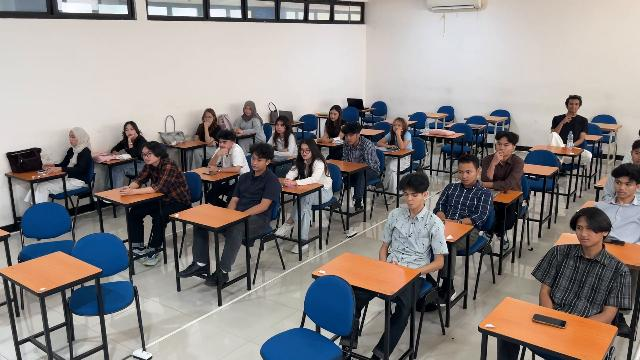fokus: (575, 219, 598, 246), (615, 176, 634, 197), (404, 189, 421, 208), (458, 166, 473, 185), (142, 147, 156, 164), (251, 154, 265, 170), (497, 140, 511, 155), (125, 124, 135, 137), (301, 145, 311, 158), (633, 148, 640, 166), (219, 139, 230, 150), (345, 133, 356, 144), (69, 131, 77, 145), (276, 121, 285, 133), (393, 120, 402, 132), (205, 113, 213, 125), (244, 105, 252, 116), (330, 110, 338, 120)
